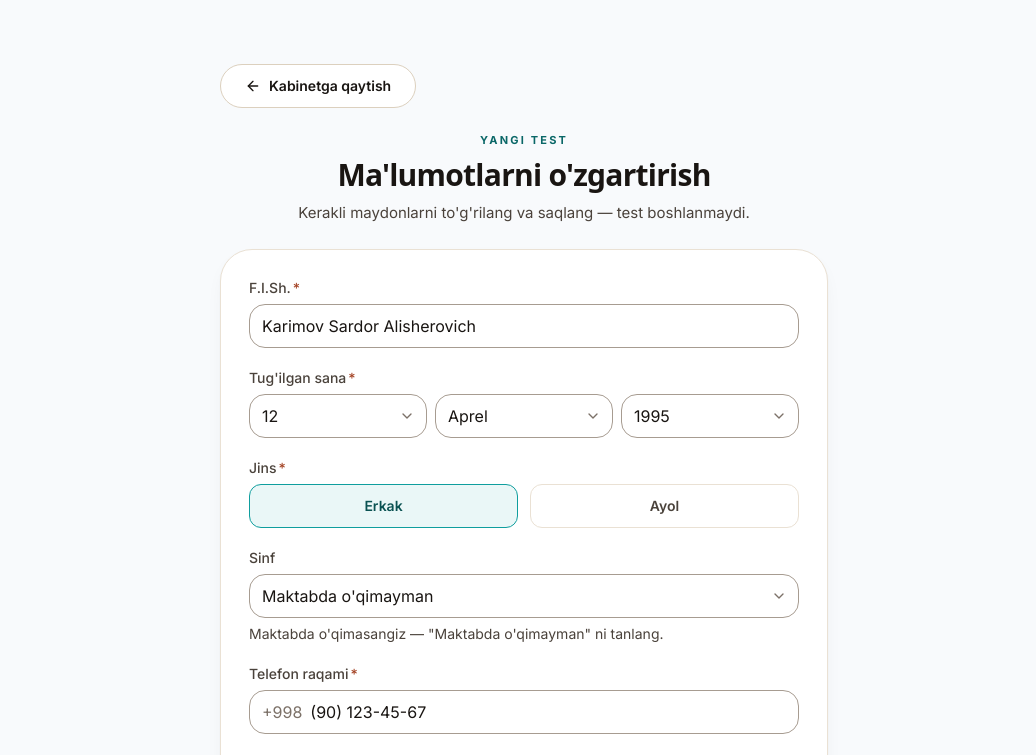
Test case: PublicRegistrationPage (maktabsiz anketa) › B holati — profil to'liq, rozilik joriy › `?edit=1` (kabinetdan) → "Saqlash" `/kabinet` ga qaytaradi, sessiya ochilmaydi
The width and height of the screenshot is (1036, 755).
Replace the text in the field labelled "Telefon raqami" with "911112233" at (550, 712), box [302,691,798,733]
(page scrolled)
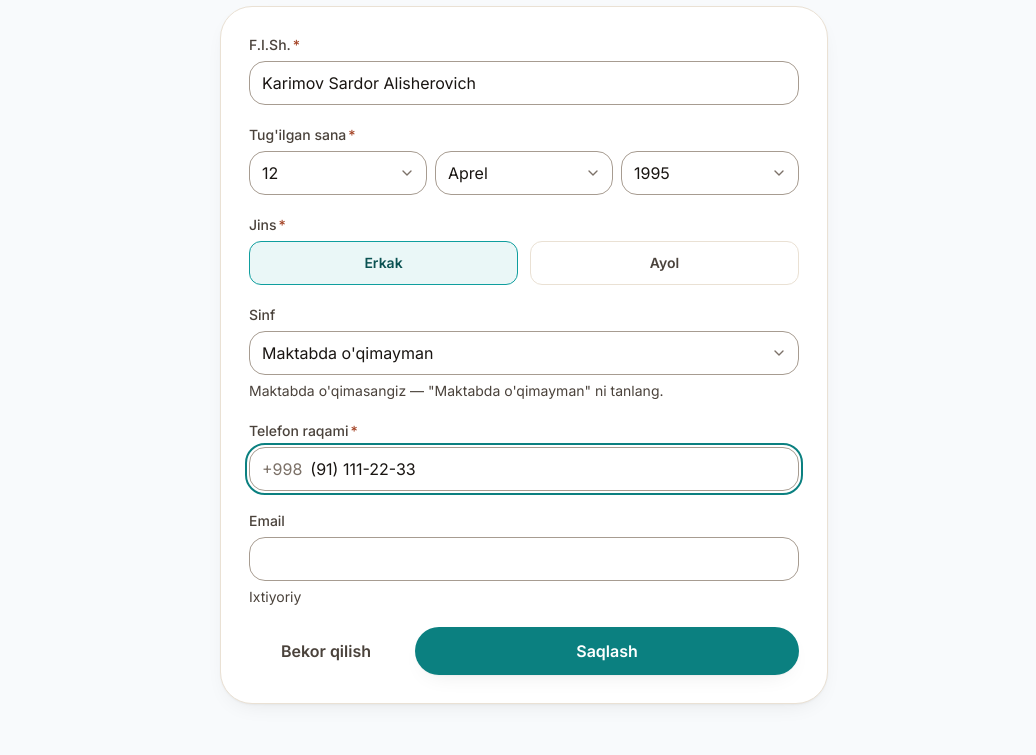
Click the button "Saqlash".
click(607, 651)  # box [415,627,799,675]
(page scrolled)
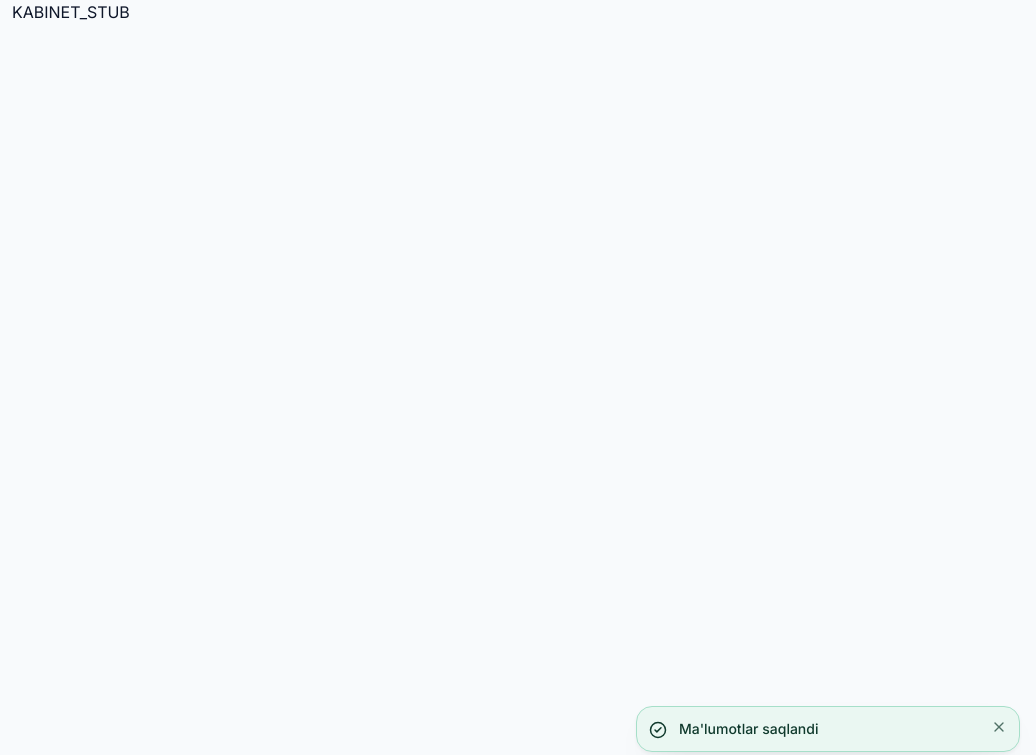
Now the text "KABINET_STUB" is shown, box [12,2,130,22]
Now the text "Ma'lumotlar saqlandi" is shown, box [679,720,818,737]
